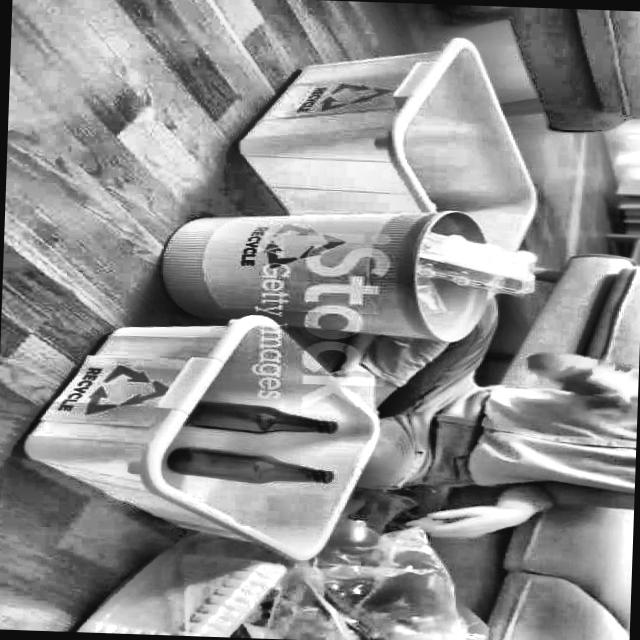Bottle-Disposed: (147, 317, 383, 564)
Empty: (381, 30, 545, 284)
Plastic-Bottle: (165, 450, 342, 494), (184, 398, 351, 442)
